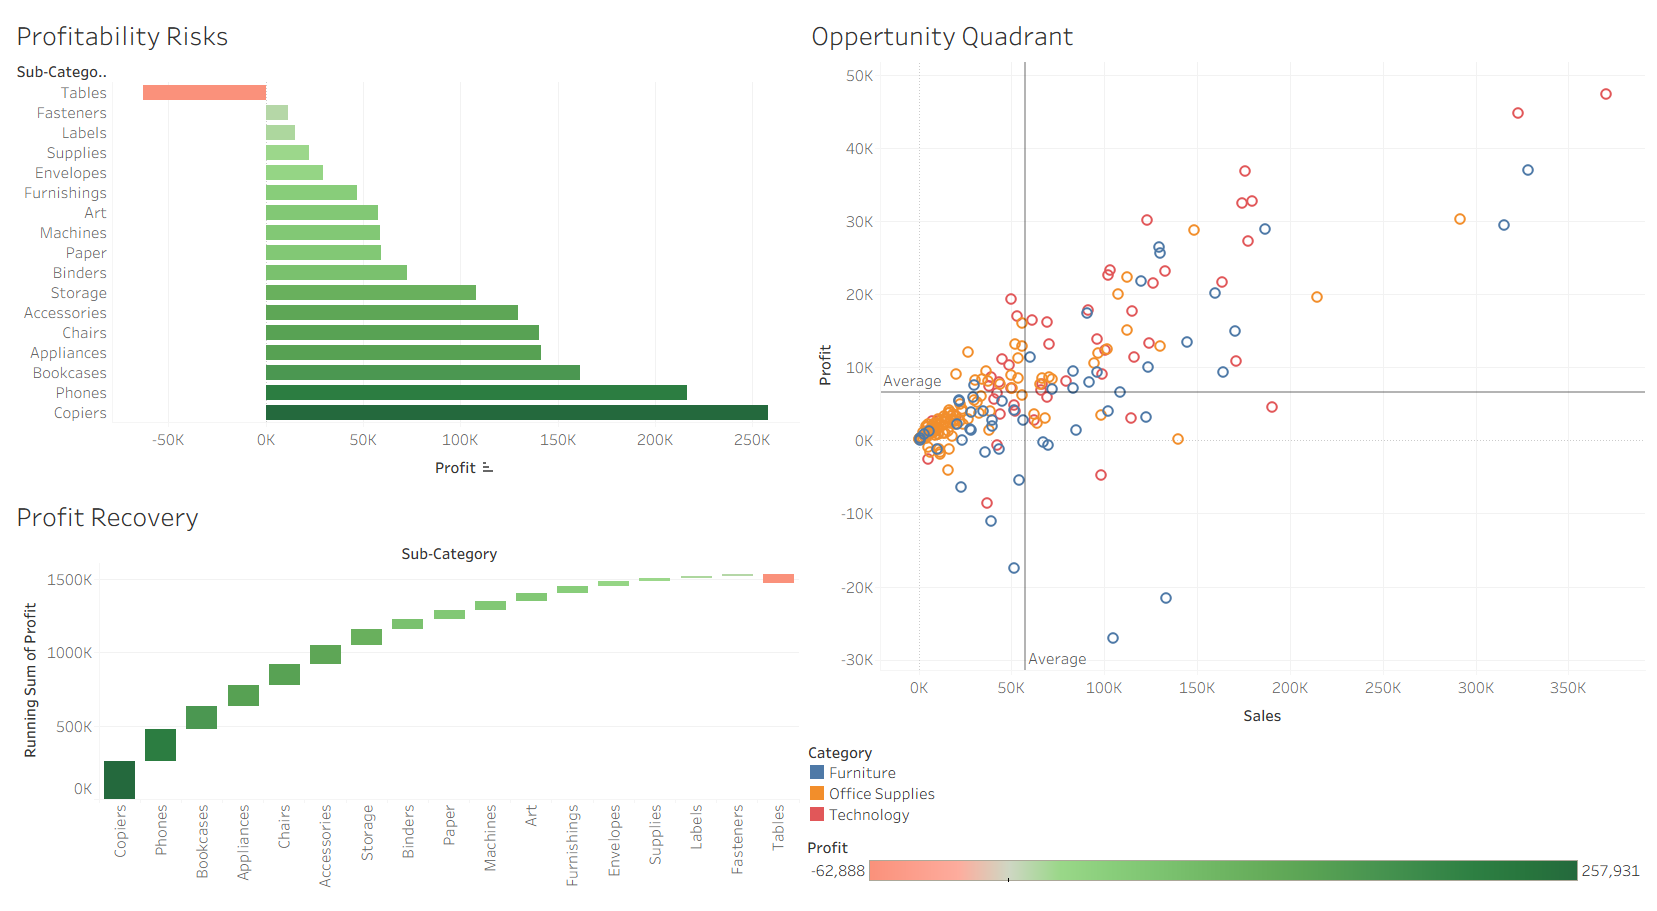

What the dashboard file says about the page in this screenshot:
{"tool":"tableau","page":{"name":"Dashboard 5","canvas":[1000,1000],"units":"permille","ordinal":4},"visuals":[{"type":"worksheet","title":"PR","mark":"Automatic","rows":["Sub-Category"],"cols":["Profit"],"box":[4.7,8.8,495,528]},{"type":"worksheet","title":"Sheet 18","mark":"Automatic","rows":["Profit"],"cols":["Sales"],"box":[499.7,8.8,495.6,800.2]},{"type":"worksheet","title":"Sheet 19","mark":"GanttBar","rows":["Profit"],"cols":["Sub-Category"],"box":[4.7,536.8,495,454.4]},{"type":"legend","title":"Sheet 18","param":"[federated.0ch10ea1bcx7v210pktrc0ysy6fw].[none:Category:nk]","box":[499.7,809,495.6,102.1]},{"type":"legend","title":"Sheet 19","param":"[federated.0ch10ea1bcx7v210pktrc0ysy6fw].[sum:Profit:qk]","box":[499.7,911.1,495.6,80.1]}]}

Visuals, with their boxes on the dashboard's canvas, which has no fixed pixel size, in thousandths of its width and height (x1, y1, x2, y2). These are canvas units, not pixel positions in the 1657x911 screenshot, which may show the page scaled, cropped or inside an application window:
"PR" worksheet: detection(5, 9, 500, 537)
"Sheet 18" worksheet: detection(500, 9, 995, 809)
"Sheet 19" worksheet (GanttBar marks): detection(5, 537, 500, 991)
"Sheet 18" legend: detection(500, 809, 995, 911)
"Sheet 19" legend: detection(500, 911, 995, 991)
